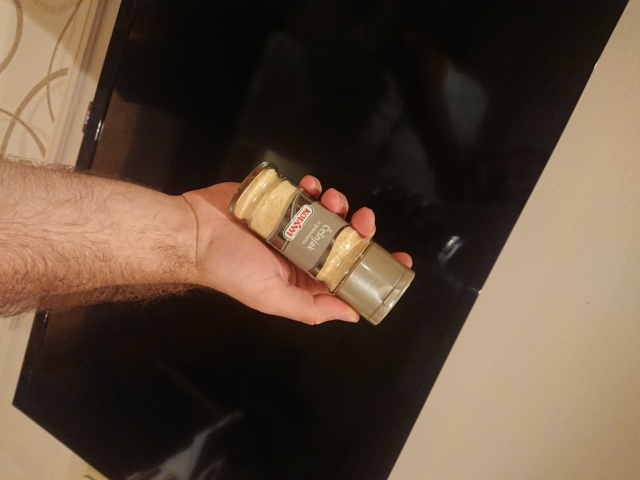Kotanyi Garlic Granules 70g: (225, 157, 418, 327)
